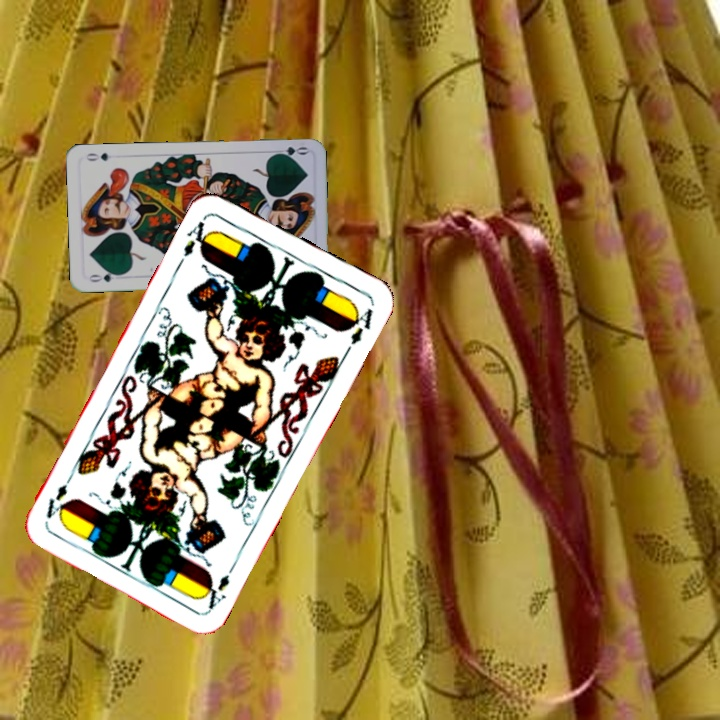EA: (198, 558, 239, 613), (179, 213, 215, 260)
GO: (85, 267, 125, 285), (269, 143, 310, 160)
